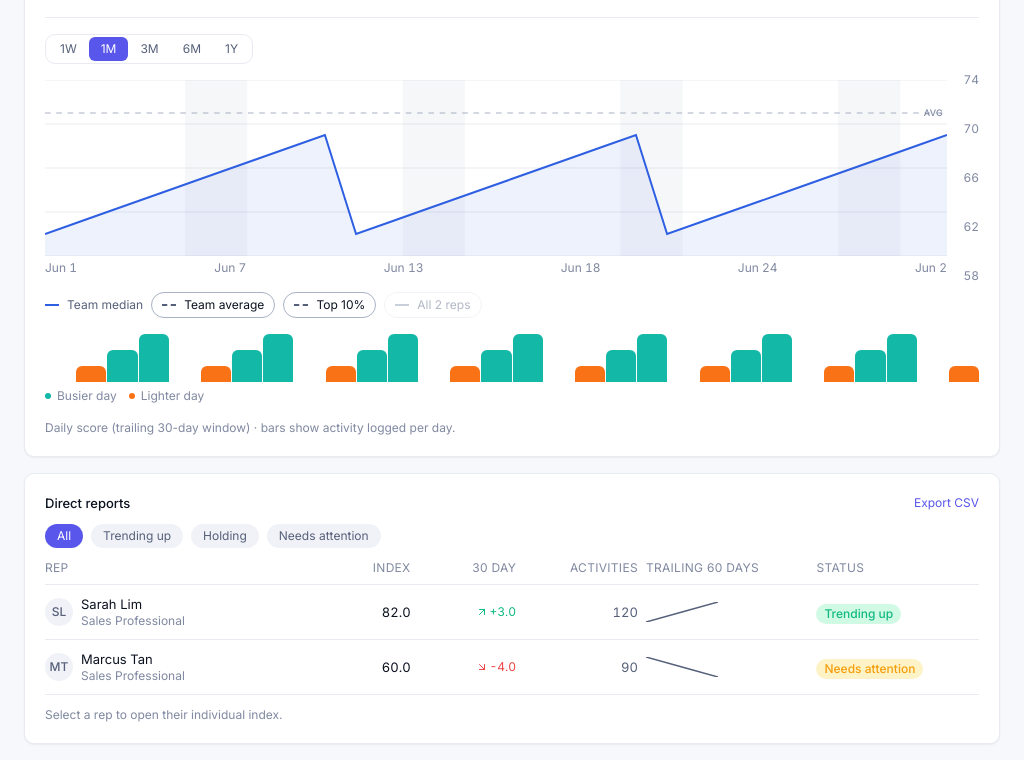
PersistenceIndexReport › renders the sub-component breakdown and stats grid in the per-rep drill-down
The width and height of the screenshot is (1024, 760).
(page scrolled)
Expected: the text "where your score comes from" is not shown
Click the text "Sarah Lim" at (112, 604), box [81,596,142,612]
(page scrolled)
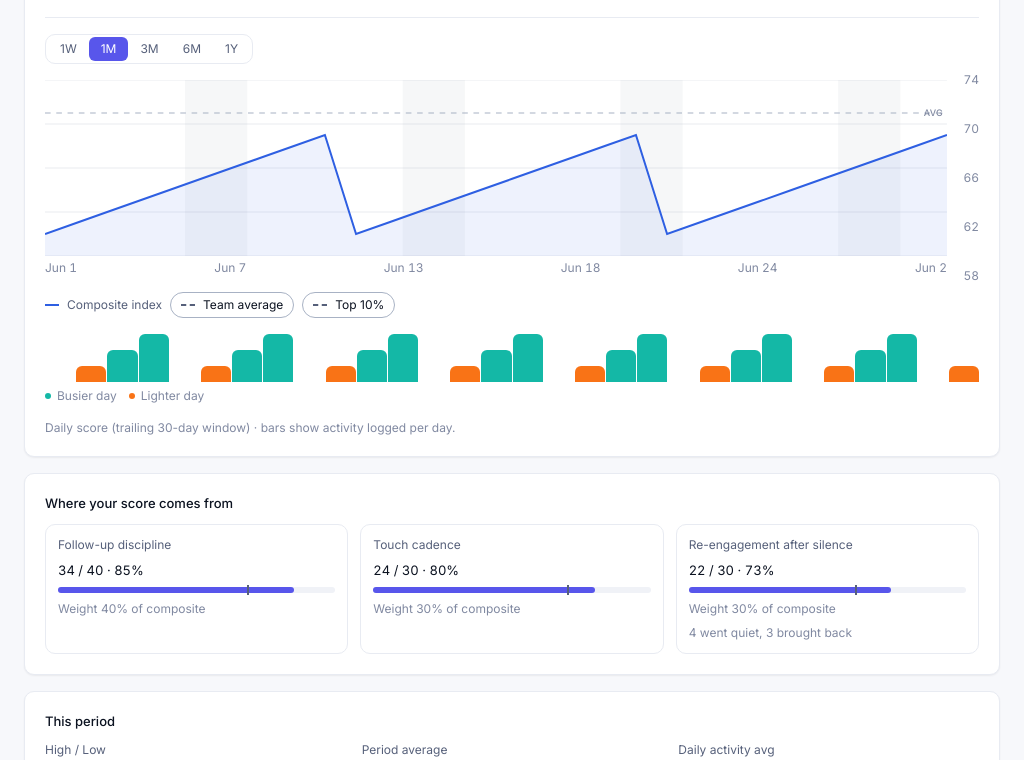
Expected: the text "Where your score comes from" is shown, [45,495,233,511]
Expected: the text "This period" is shown, [45,713,115,729]
